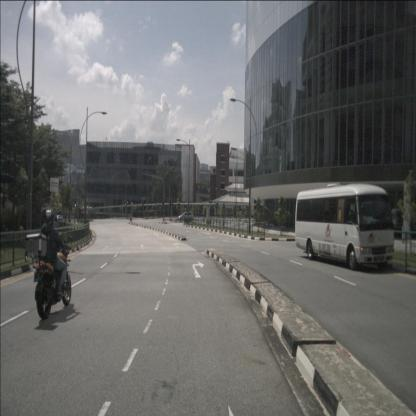vehicle-bus-rigid: (295, 183, 395, 270)
vehicle-car: (391, 208, 415, 239), (178, 212, 194, 221), (53, 214, 63, 224)
vehicle-motorcycle: (25, 208, 73, 320)
